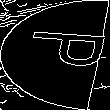P_E: (6, 33, 104, 77)
